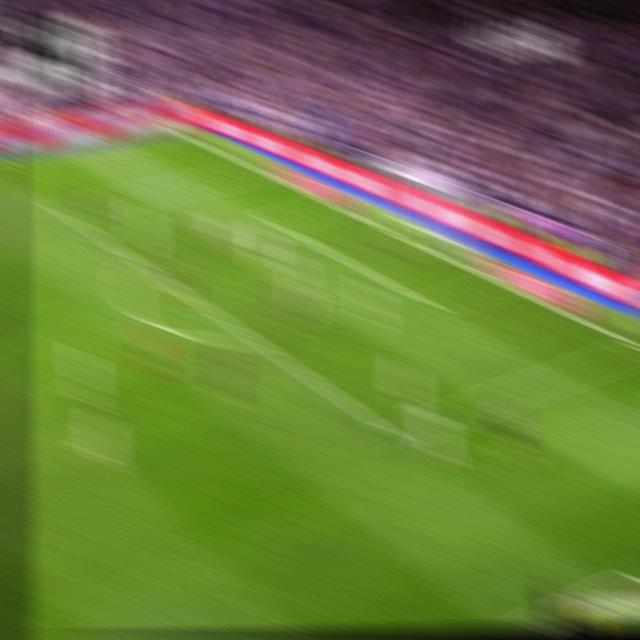bigarea_bottom_inner: (382, 419, 409, 452)
bigarea_bottom_outter: (629, 335, 640, 358)
bigarea_top_inner: (52, 201, 73, 221)
bigarea_top_outter: (244, 160, 268, 177)
bottom_arc_area_intersection: (244, 327, 270, 355)
corner: (164, 123, 189, 139)
smallarea_top_inner: (52, 201, 73, 221)
top_arc_area_intersection: (130, 254, 154, 275)
